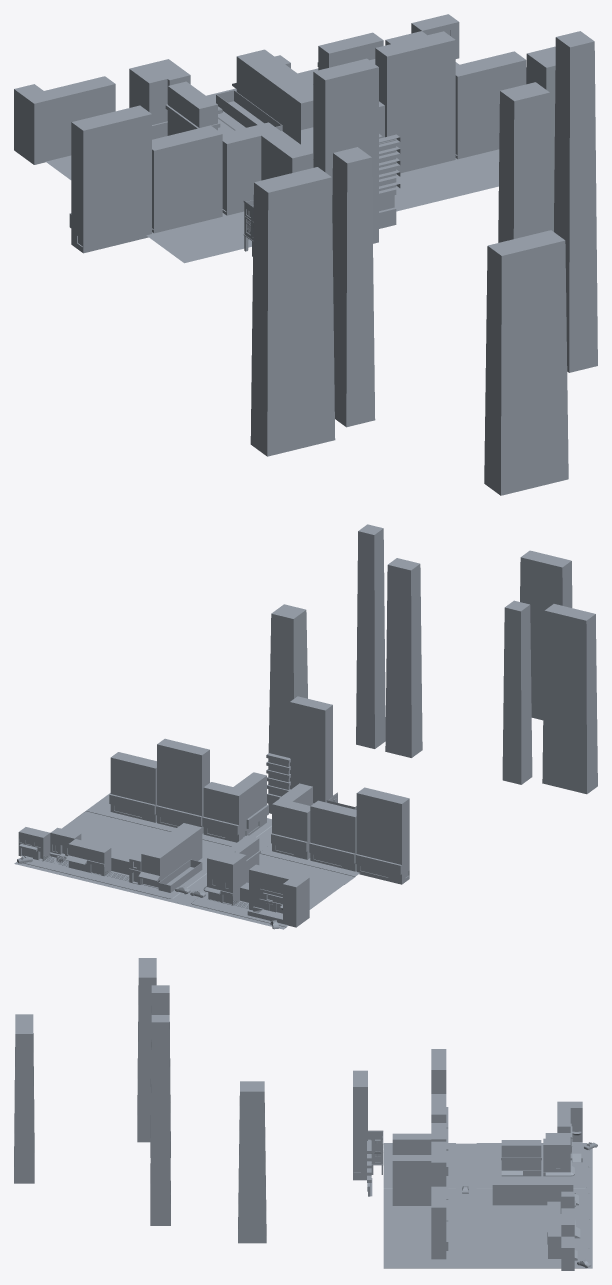
The model's file is city_1_1_proxy.fbx.
The picture shows the model from 3 angles, top to bottom: view 1: azimuth 30°, elevation 25°; view 2: azimuth 150°, elevation 25°; view 3: azimuth 270°, elevation 25°; orthographic projection. The views are drawn at different scales.
Parts seen in each view (by area): view 1: city_buildings, city_floor; view 2: city_buildings, city_floor; view 3: city_buildings, city_floor.
Part boxes in pixels (x1,y1,x2,y2): city_buildings: [14, 14, 597, 495]; city_floor: [46, 62, 499, 263]; city_buildings: [17, 524, 597, 929]; city_floor: [14, 793, 359, 929]; city_buildings: [14, 958, 597, 1270]; city_floor: [383, 1143, 592, 1268].
Bounding box in the file's own units: 10373 × 6053 × 15795.
